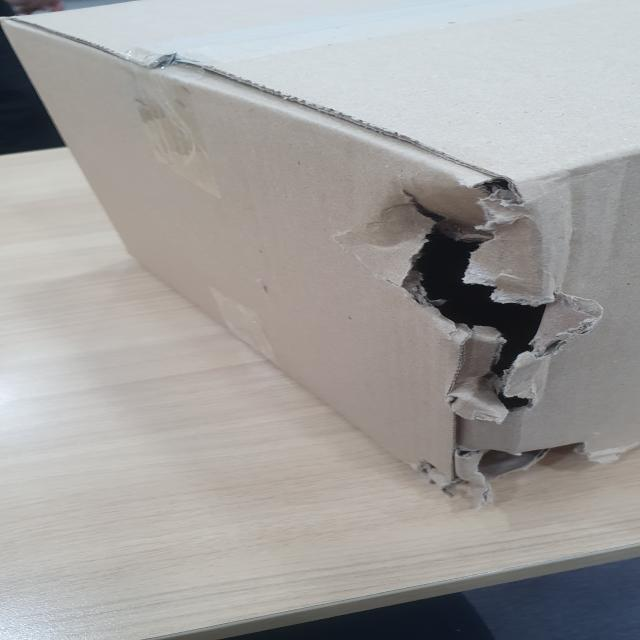hole: (376, 192, 612, 482)
